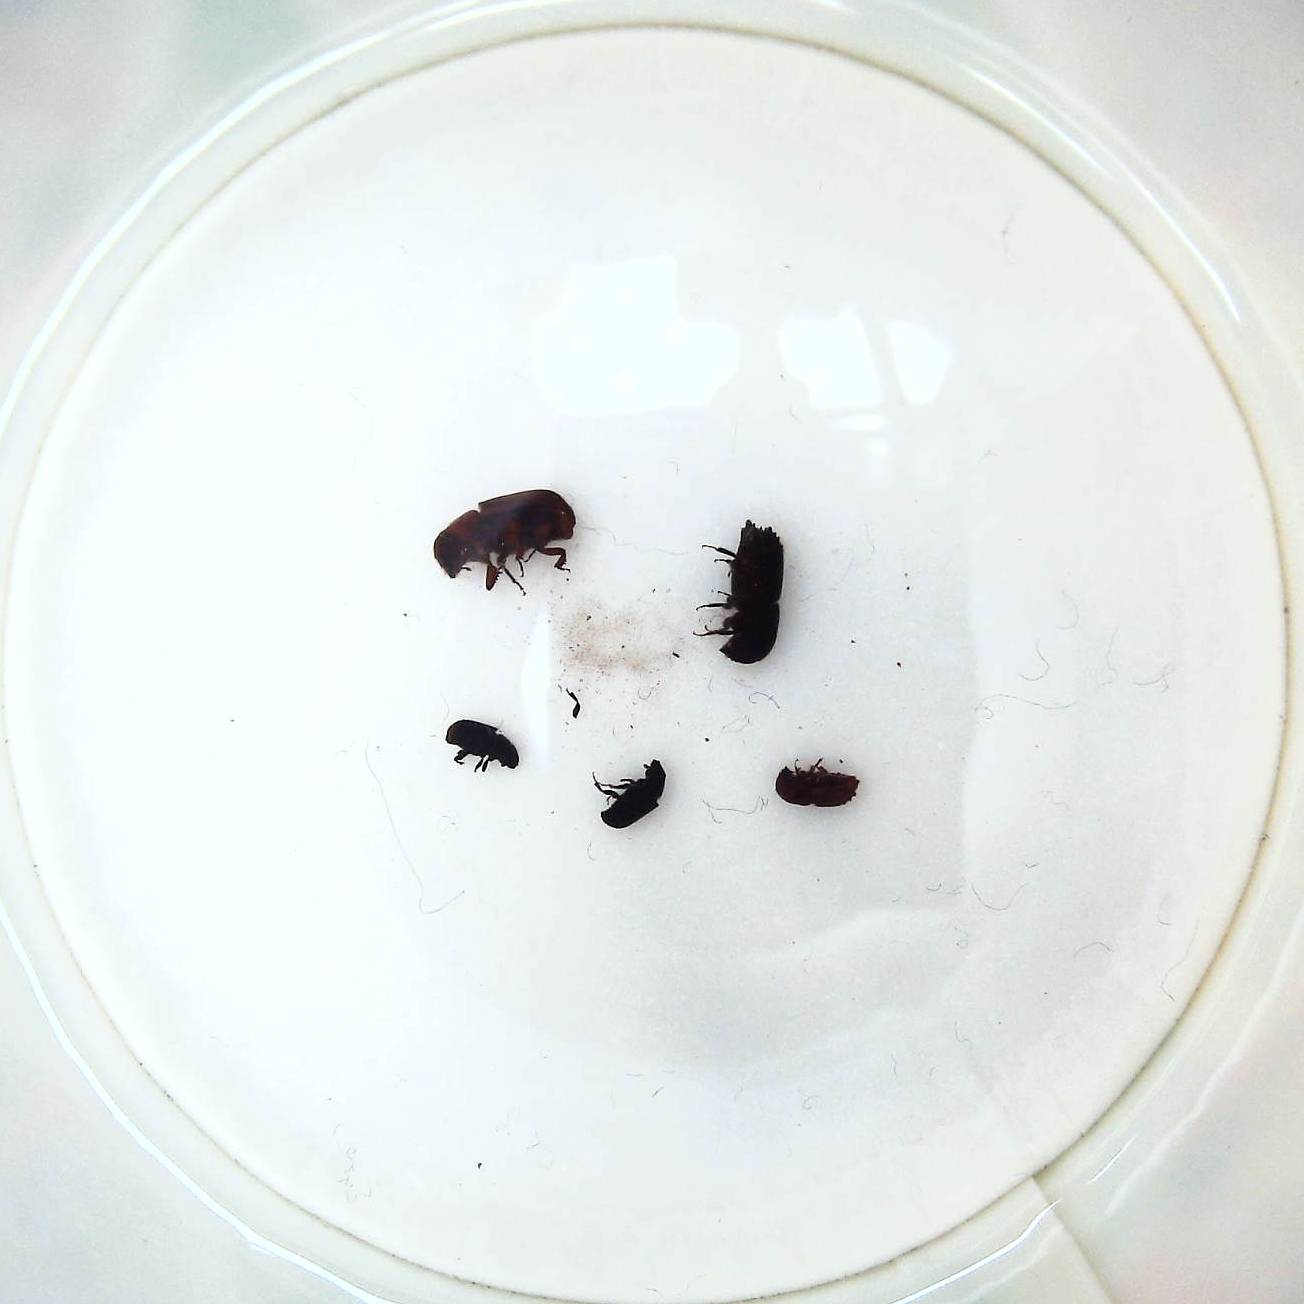Boerner: (695, 519, 788, 666)
Leconte: (428, 485, 578, 598)
armandi: (437, 716, 515, 773)
coleoptera: (588, 761, 671, 829)
linnaeus: (771, 761, 859, 814)
